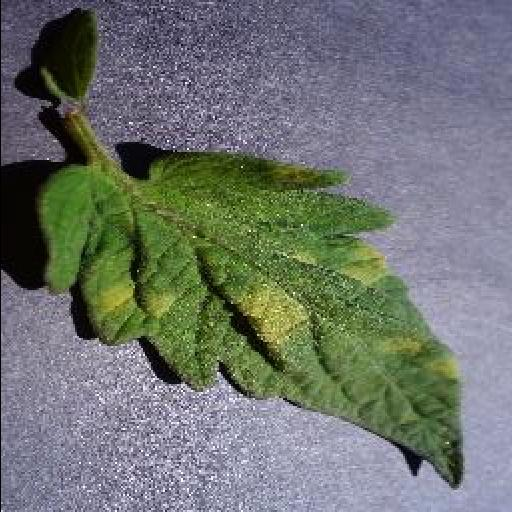disease_tomato: (38, 154, 466, 488)
